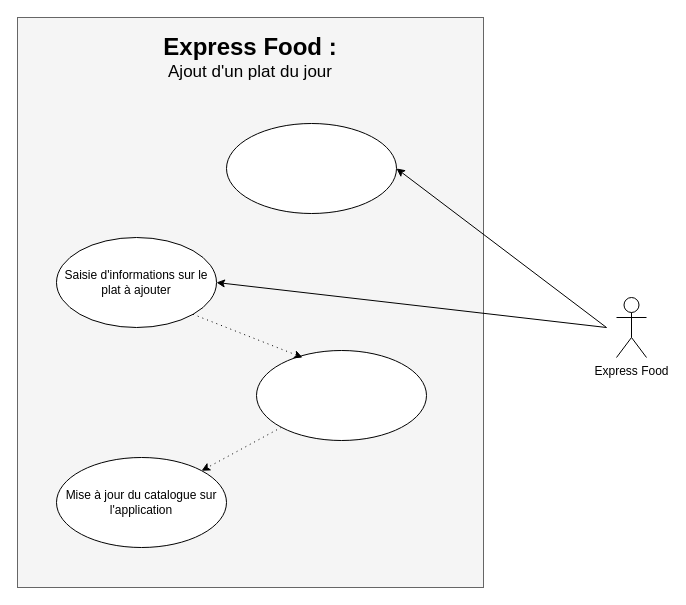
The diagram is 686 pixels wide and 605 high, and some of its shapes have lost their labels. Each missing label, with the box of its shape:
Connexion sur la partie administration de l'application: (226, 122, 396, 214)
Enregistrement du plat dans la base de données: (256, 350, 426, 440)
